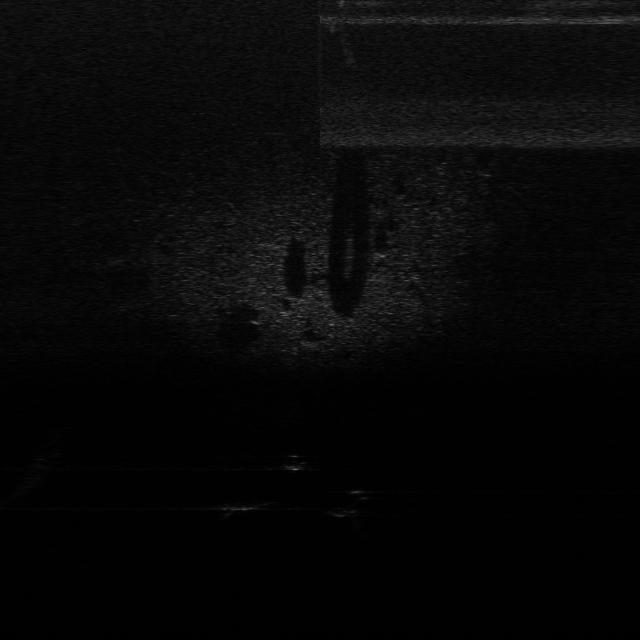ball: (280, 449, 310, 474)
square cage: (212, 491, 280, 517)
tyre: (331, 485, 373, 519)
